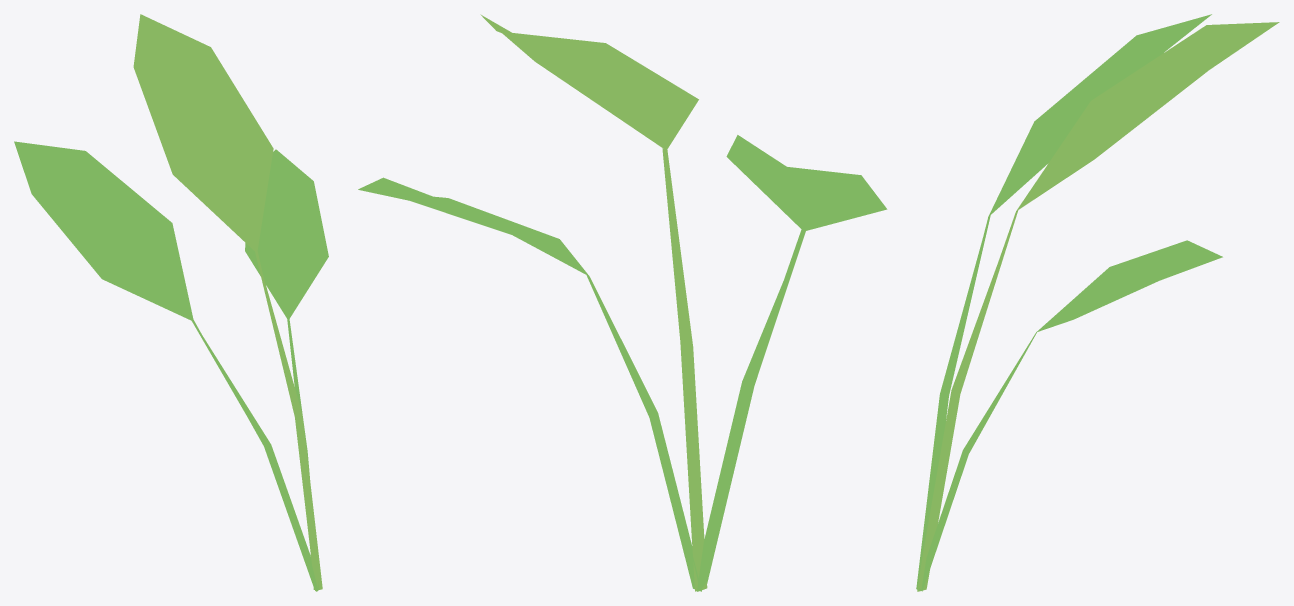
File: Plant_j_OneS_03.fbx
3 renders of one model, left to right at view 1: azimuth 30°, elevation 25°; view 2: azimuth 150°, elevation 25°; view 3: azimuth 270°, elevation 25°, orthographic. The views are drawn at different scales.
Parts seen in each view (by area): view 1: Plant_j_OneS_03; view 2: Plant_j_OneS_03; view 3: Plant_j_OneS_03.
Part boxes in pixels (x1=…): Plant_j_OneS_03: x1=14, y1=14, x2=328, y2=591; Plant_j_OneS_03: x1=358, y1=14, x2=887, y2=591; Plant_j_OneS_03: x1=916, y1=14, x2=1279, y2=591.
Size of the model in its own units: 0.3806 by 0.5858 by 0.3485.
